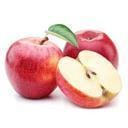apple: (64, 28, 119, 83)
